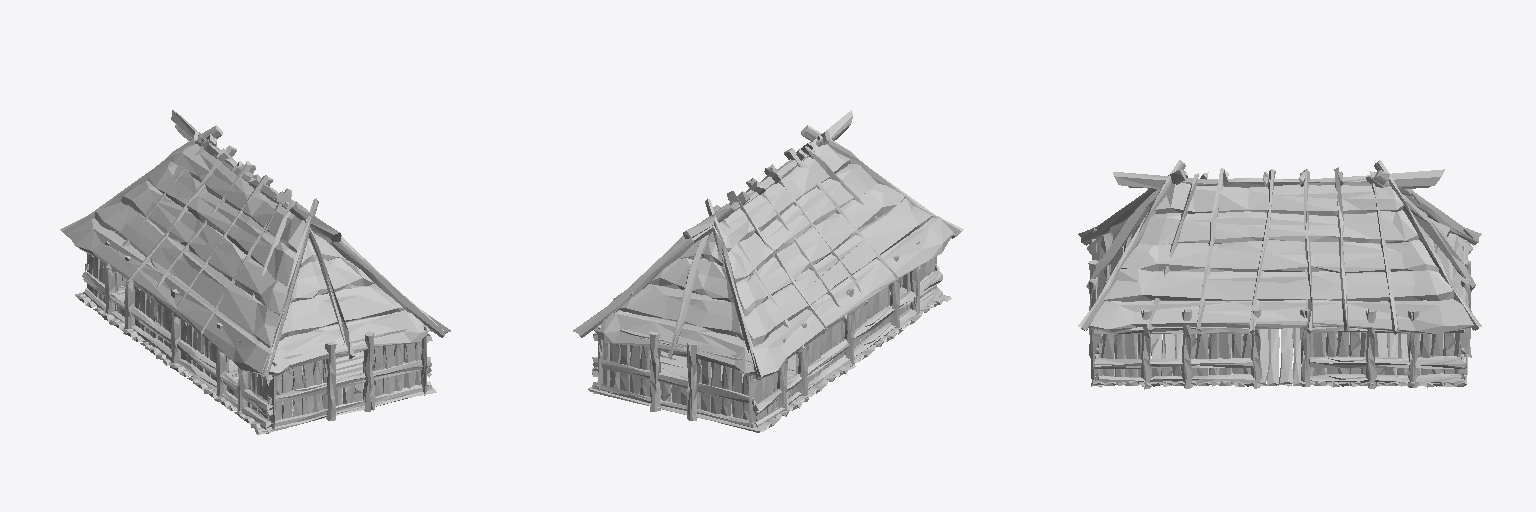
The model's file is rumah_low.obj.
3 renders of one model, left to right at view 1: azimuth 30°, elevation 25°; view 2: azimuth 150°, elevation 25°; view 3: azimuth 270°, elevation 25°, orthographic.
Visible parts, largest first — view 1: Circle.007_Circle.010; view 2: Circle.007_Circle.010; view 3: Circle.007_Circle.010.
Part boxes in pixels (left/top/right/bottom): Circle.007_Circle.010: left=60, top=110, right=450, bottom=434; Circle.007_Circle.010: left=573, top=110, right=963, bottom=432; Circle.007_Circle.010: left=1078, top=160, right=1481, bottom=389.
Size of the model in its own units: 12.69 by 11.65 by 23.33.